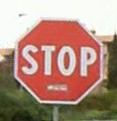stop: (13, 17, 105, 103)
